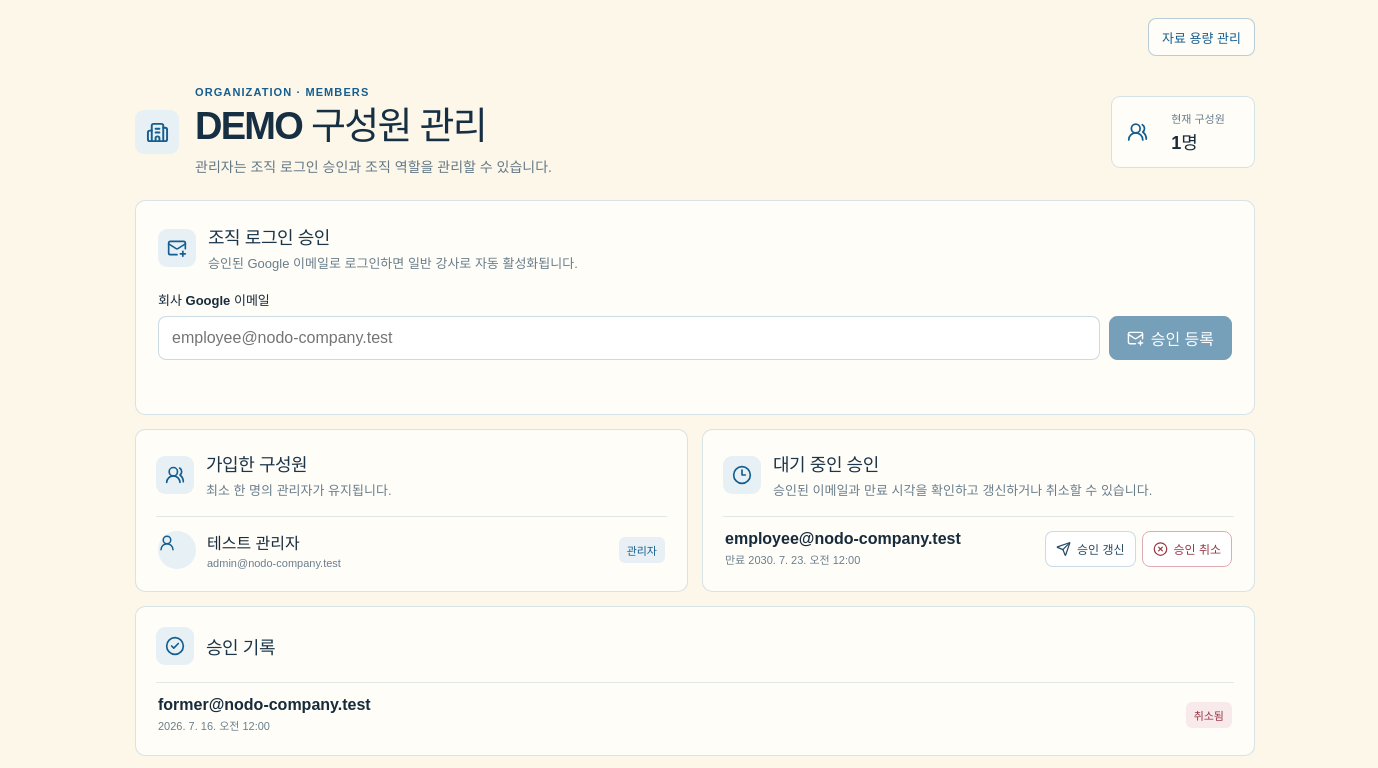
Test: 조직 구성원 관리 화면 › 관리자에게 자료 용량 관리 버튼을 표시하고 해당 화면으로 이동한다
The image size is (1378, 768).
Expected: the heading "가입한 구성원" is shown, [206, 455, 307, 475]
Click the link "자료 용량 관리".
click(1202, 37)  # box [1148, 18, 1255, 56]
(page scrolled)
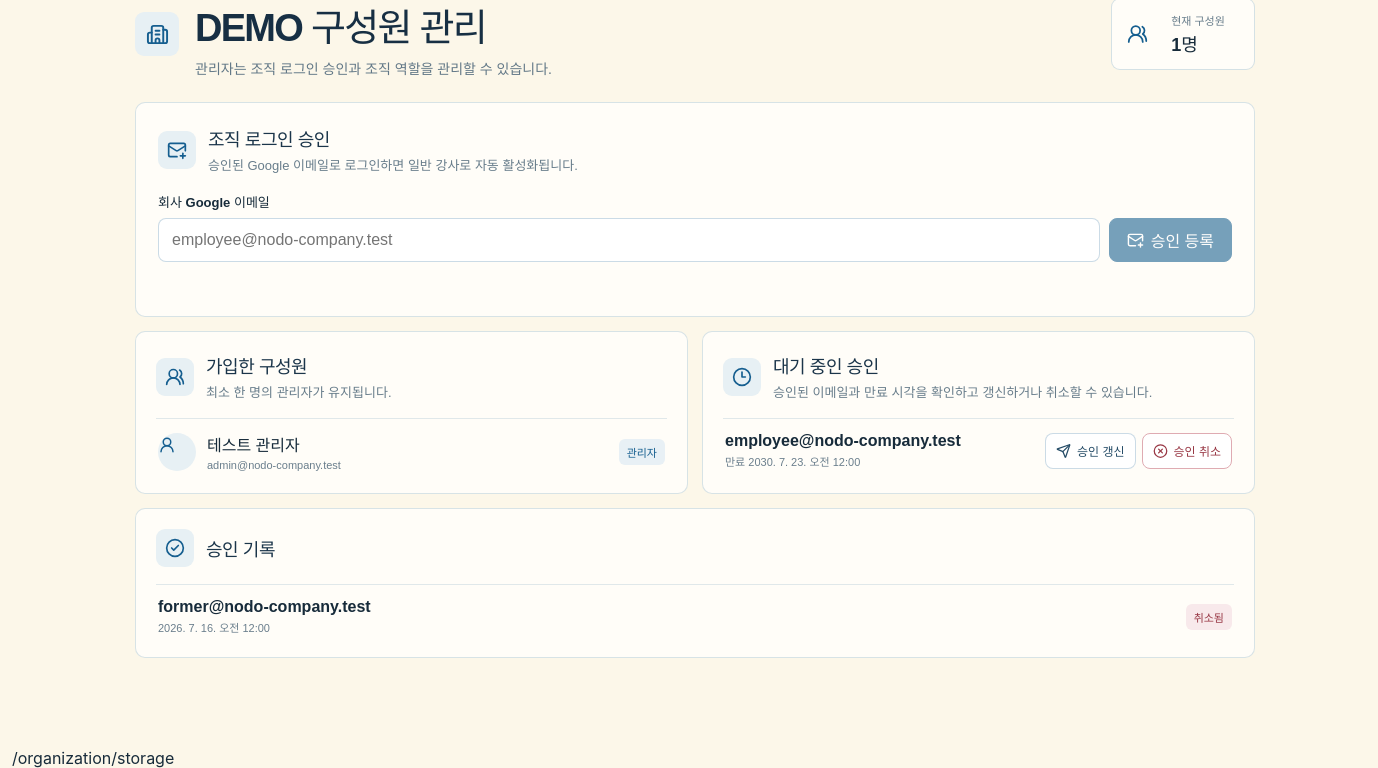
Result: the text with test id "current-path" reads "/organization/storage" at [12, 748, 174, 767]
